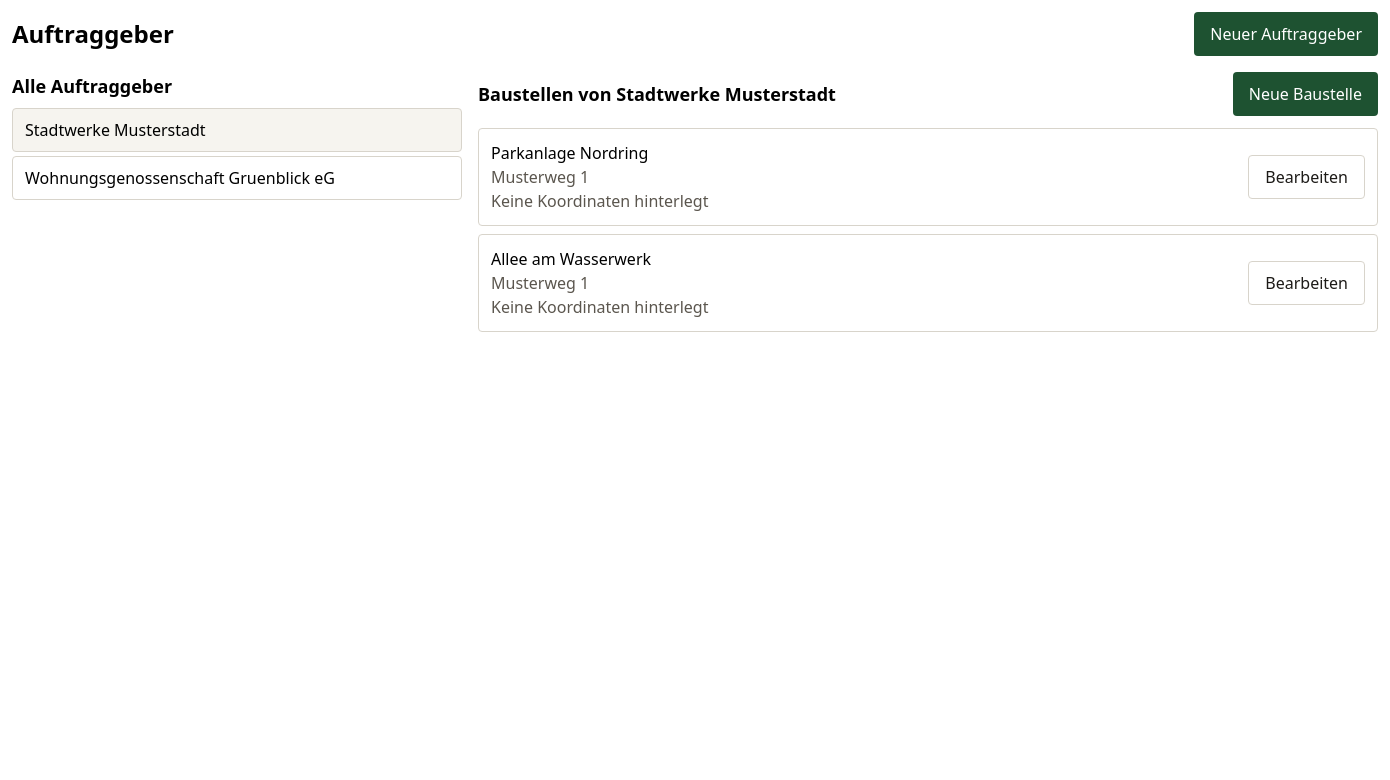
Scenario: CustomerPanel › oeffnet Neue Baustelle mit vorbelegtem Auftraggeber
Click the button "Wohnungsgenossenschaft Gruenblick eG".
click(237, 178)  # box [12,156,462,200]
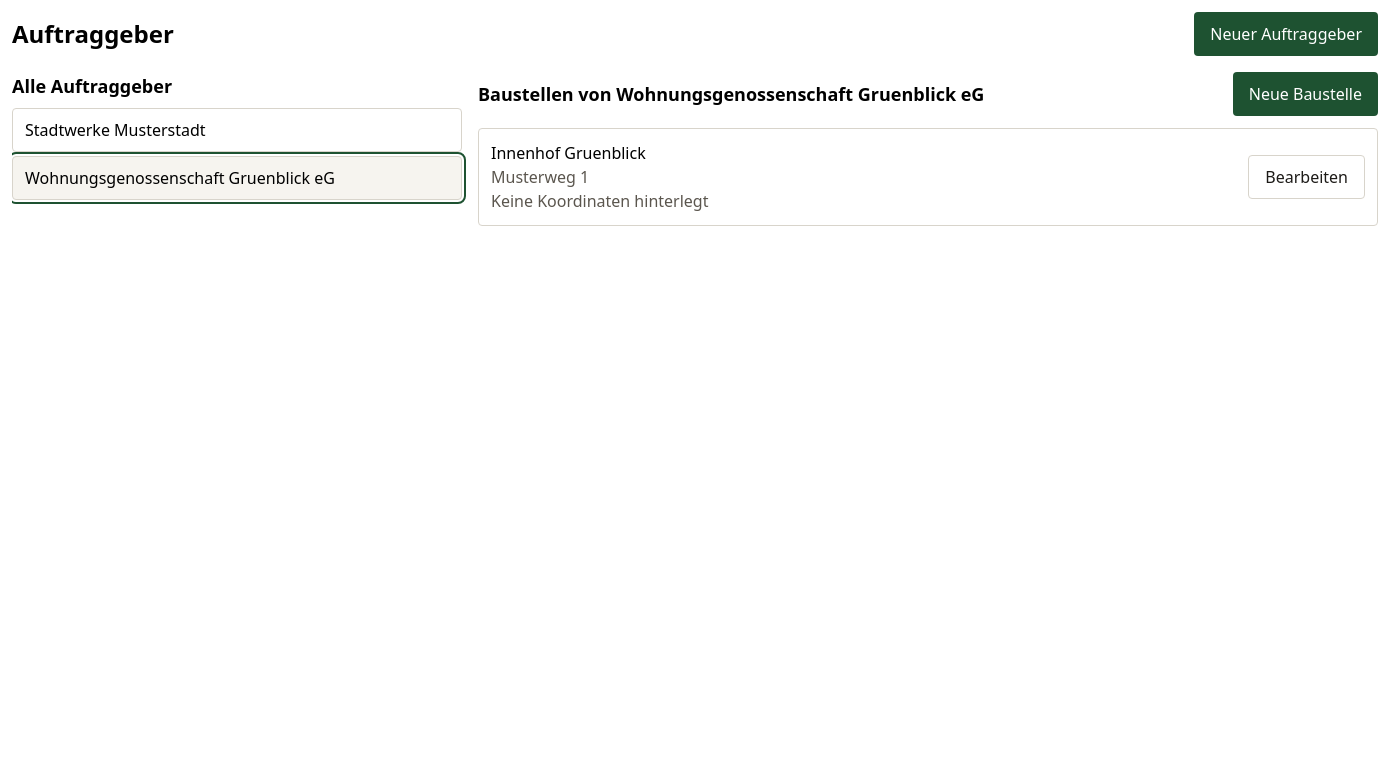
Click the button "Neue Baustelle".
click(1305, 94)  # box [1233,72,1378,116]
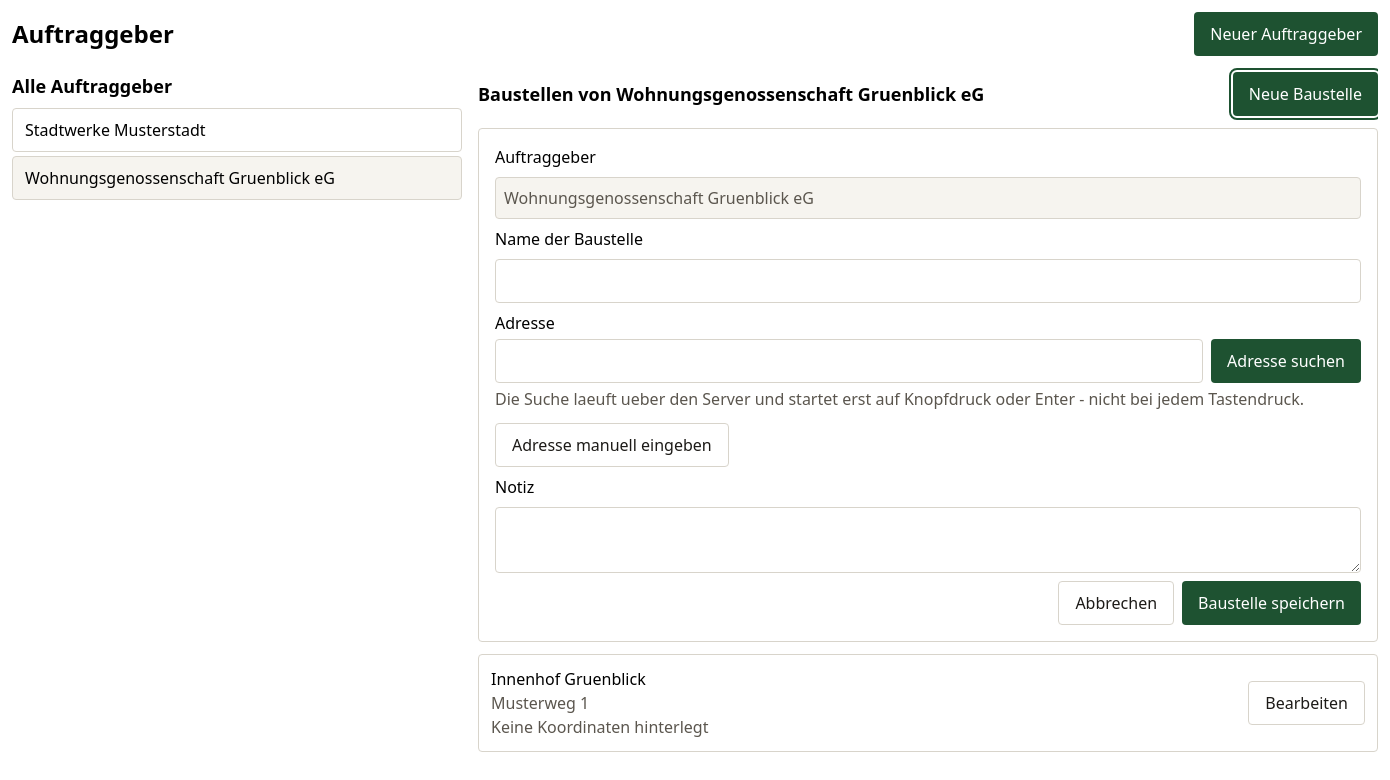
Now the field labelled "Auftraggeber" holds "Wohnungsgenossenschaft Gruenblick eG", box [495,177,1361,219]
Now the field labelled "Auftraggeber" is disabled, box [495,177,1361,219]
